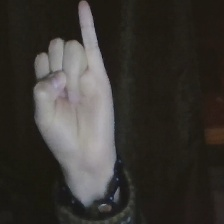I: (16, 1, 127, 159)
